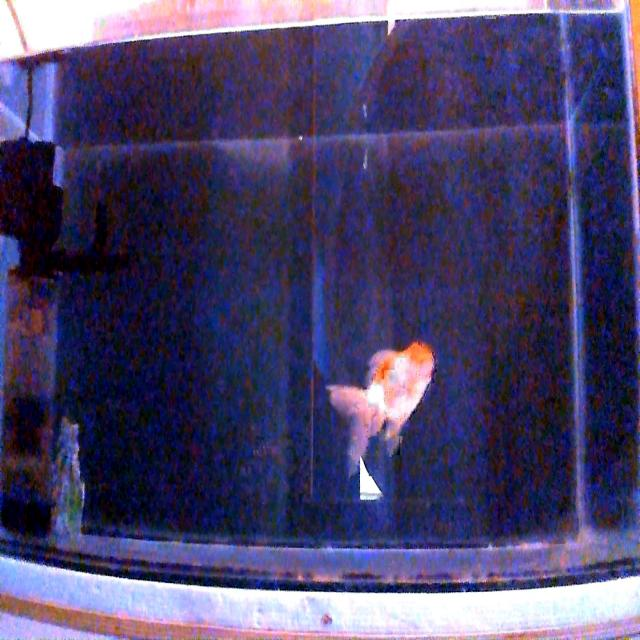fish: (327, 341, 434, 473)
